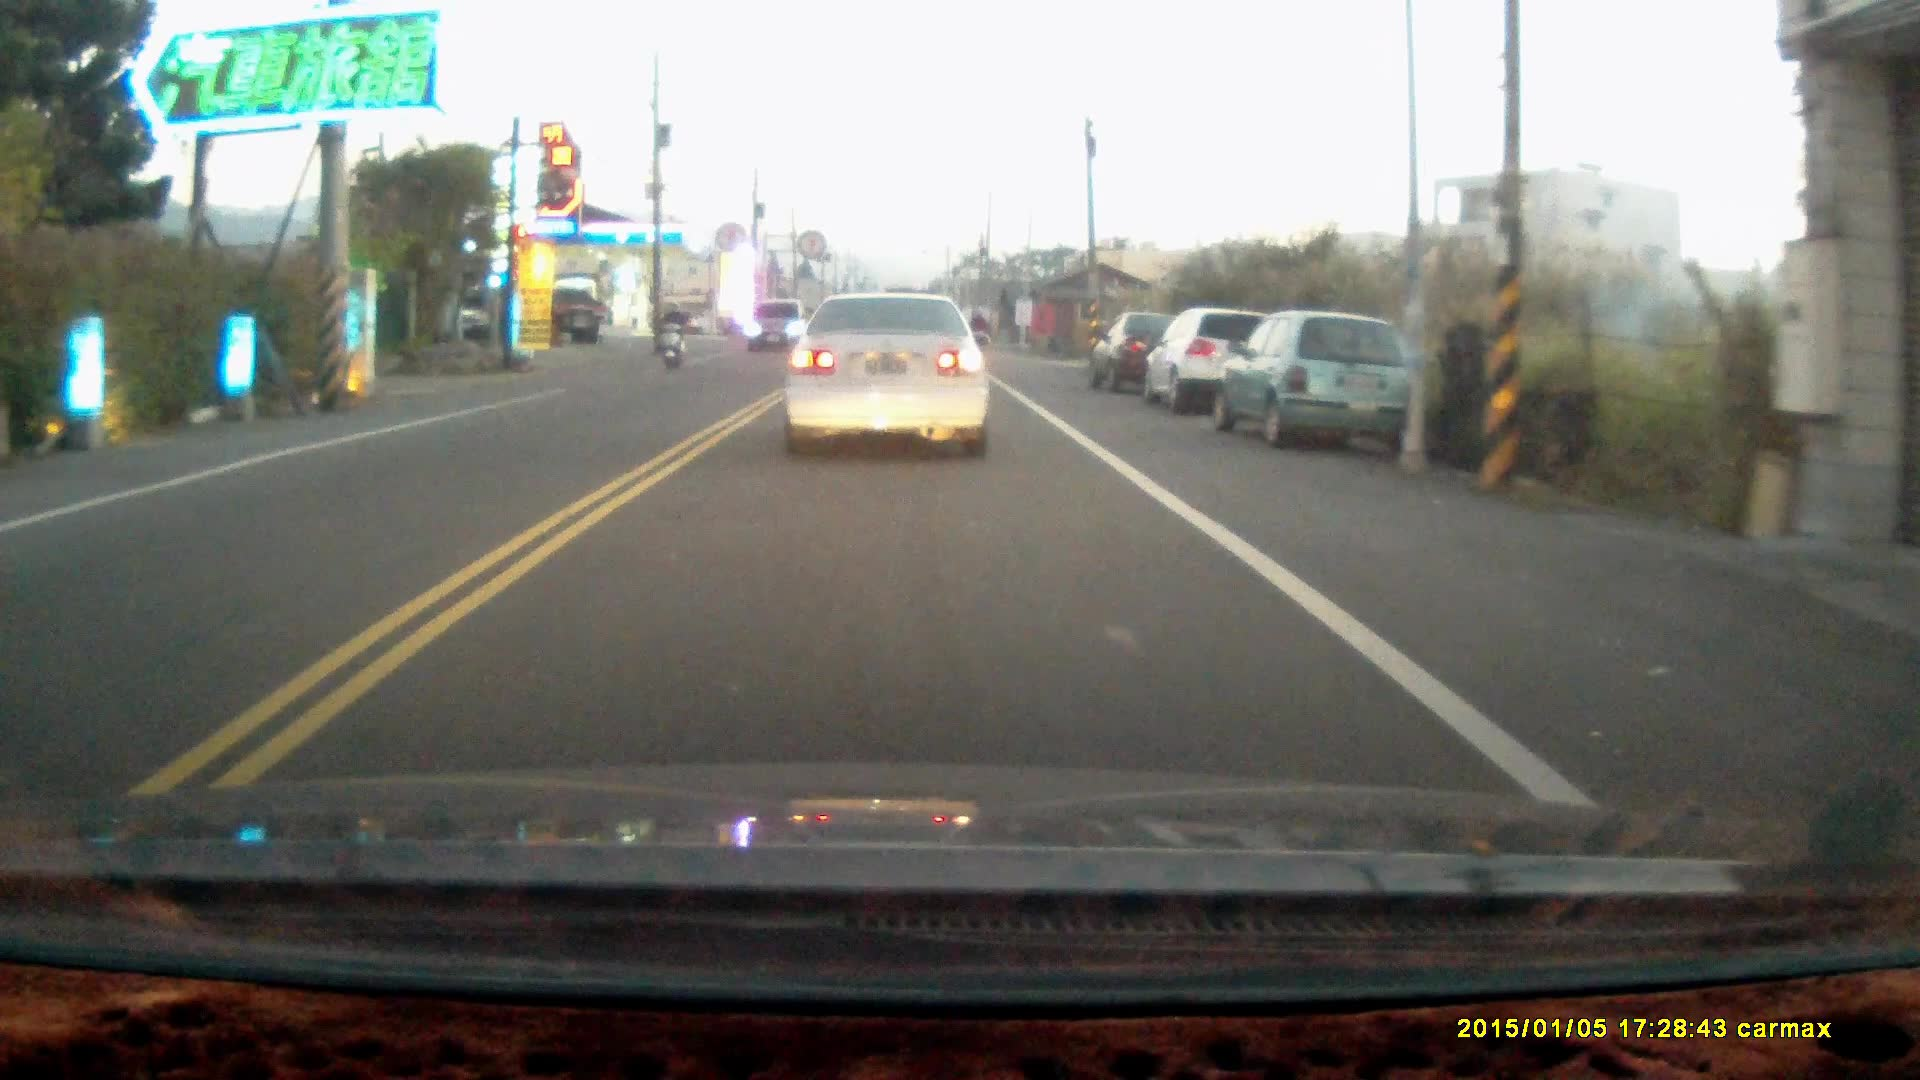rider: (656, 299, 686, 369)
vehicle: (785, 288, 996, 460), (1206, 309, 1422, 451), (1154, 306, 1269, 415), (1093, 309, 1190, 393), (749, 302, 813, 354)
